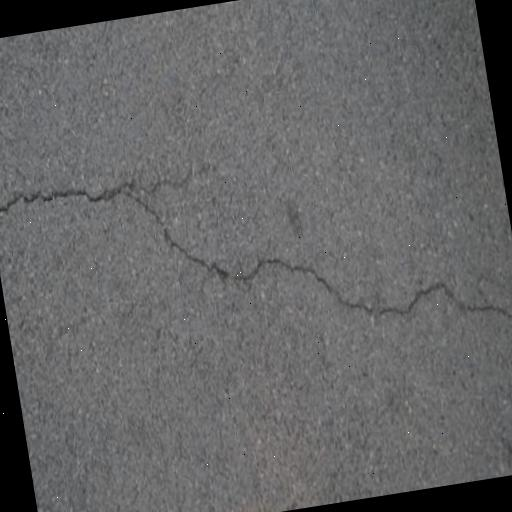spalling: (0, 168, 512, 330)
